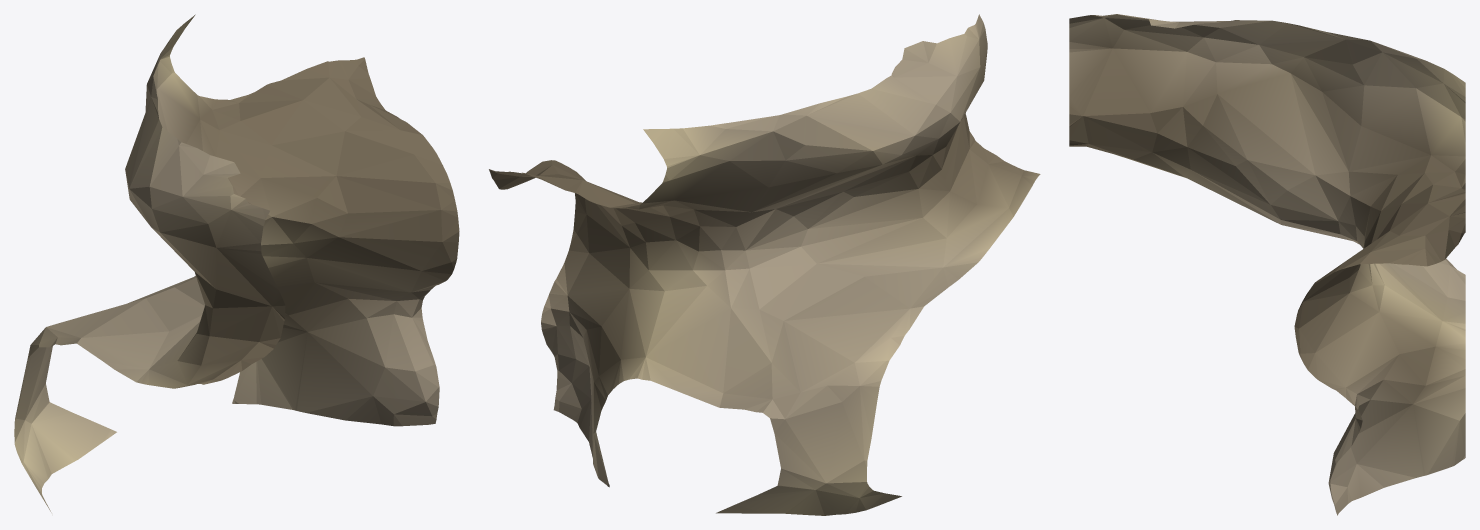
The model's file is bisect-3-5-11.gltf.
3 renders of one model, left to right at view 1: azimuth 30°, elevation 25°; view 2: azimuth 150°, elevation 25°; view 3: azimuth 270°, elevation 25°, orthographic. The views are drawn at different scales.
Parts seen in each view (by area): view 1: bisect-3-5-11; view 2: bisect-3-5-11; view 3: bisect-3-5-11.
Boxes of the visible parts, x1,y1,x2,y2 form: bisect-3-5-11: (14, 14, 459, 512); bisect-3-5-11: (489, 14, 1040, 515); bisect-3-5-11: (1069, 14, 1465, 515).
Size of the model in its own units: 20 by 20 by 20.
